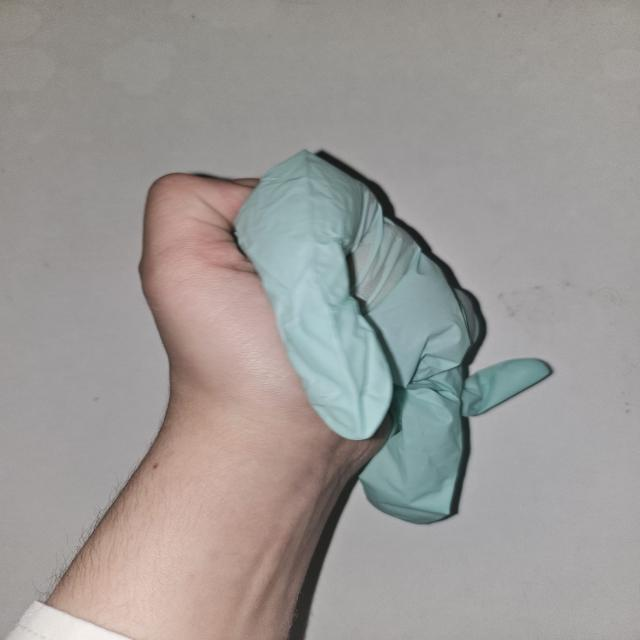glove_partial: (139, 150, 551, 524)
